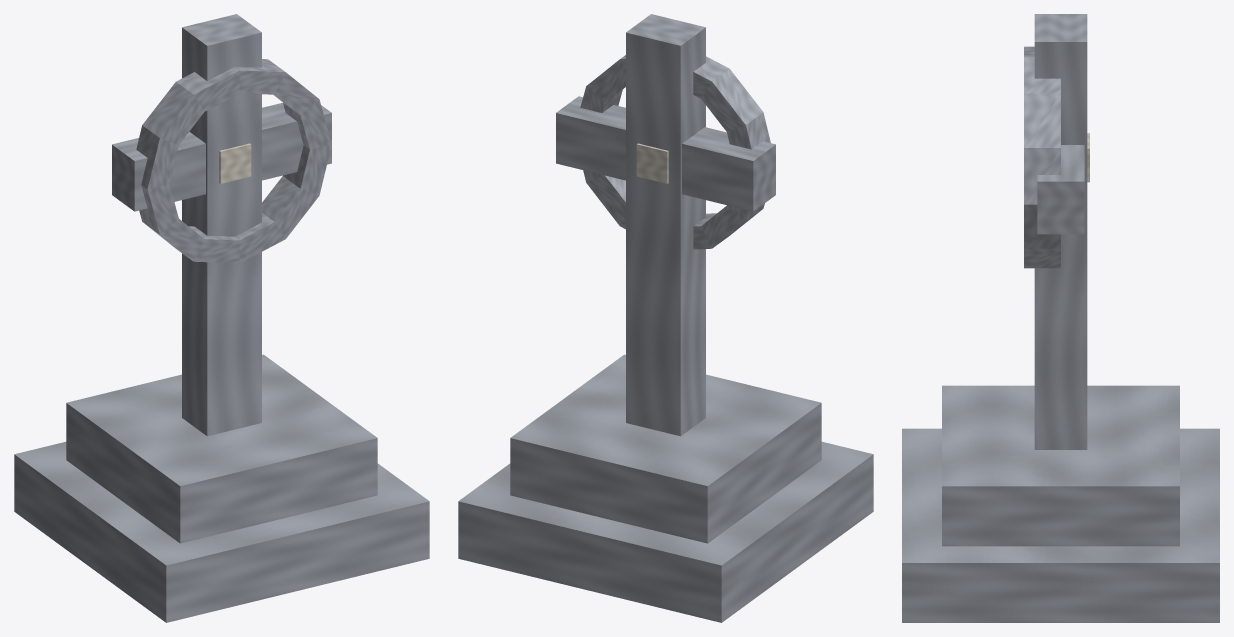
The picture shows the model from 3 angles, left to right: view 1: azimuth 30°, elevation 25°; view 2: azimuth 150°, elevation 25°; view 3: azimuth 270°, elevation 25°; orthographic projection. The views are drawn at different scales.
Visible parts, largest first — view 1: stone-cross; view 2: stone-cross; view 3: stone-cross.
Part boxes in pixels (bbox=[...]): stone-cross: bbox=[14, 14, 429, 622]; stone-cross: bbox=[458, 14, 873, 622]; stone-cross: bbox=[902, 14, 1219, 622].
Bounding box in the file's own units: 1.2 × 2.2 × 1.2.
2 materials, 2 textured.
